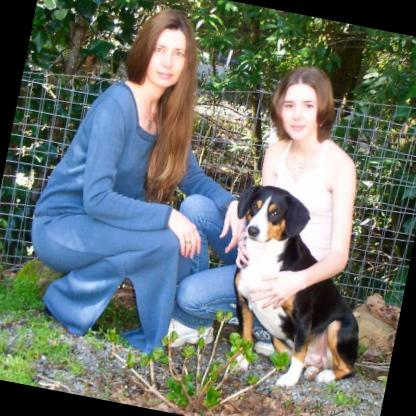EntleBucher: (204, 179, 389, 400)
